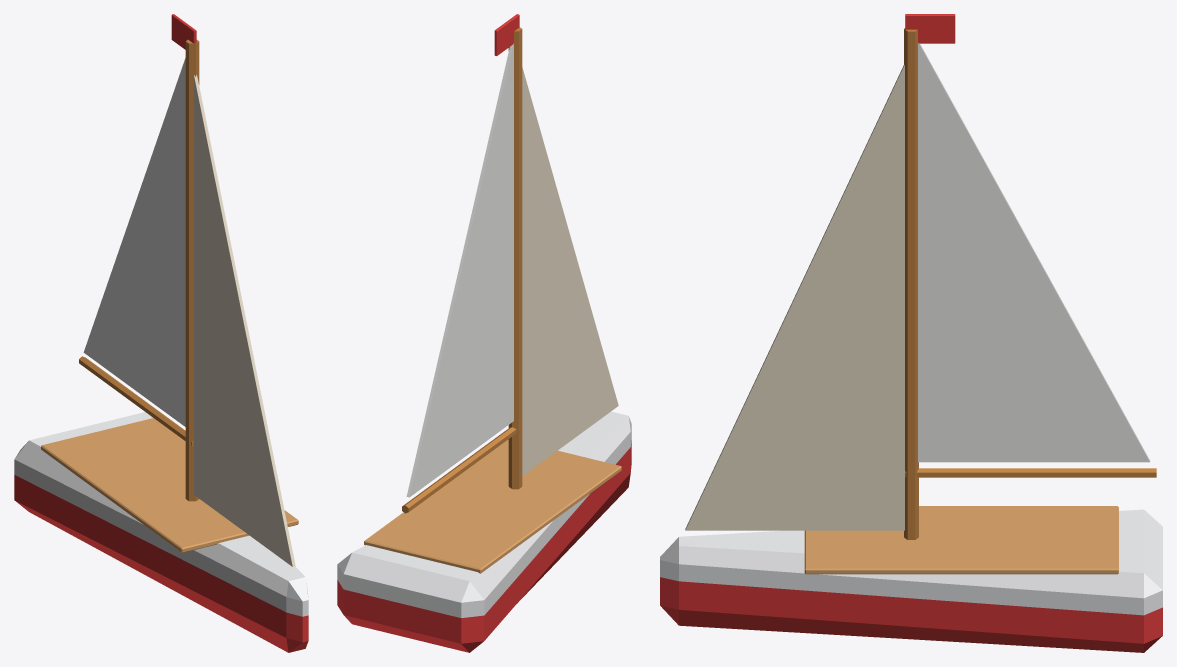
File: Sailboat.fbx
3 renders of one model, left to right at view 1: azimuth 30°, elevation 25°; view 2: azimuth 150°, elevation 25°; view 3: azimuth 270°, elevation 25°, orthographic. The views are drawn at different scales.
Visible parts, largest first — view 1: Sailboat; view 2: Sailboat; view 3: Sailboat.
Part boxes in pixels (x1,y1,x2,y2): Sailboat: (14, 14, 308, 652); Sailboat: (337, 14, 631, 652); Sailboat: (660, 14, 1162, 652).
Size of the model in its own units: 3 by 10.65 by 8.
Materials: 1 (1 with a texture image).
